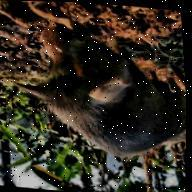boar: (19, 26, 189, 153)
